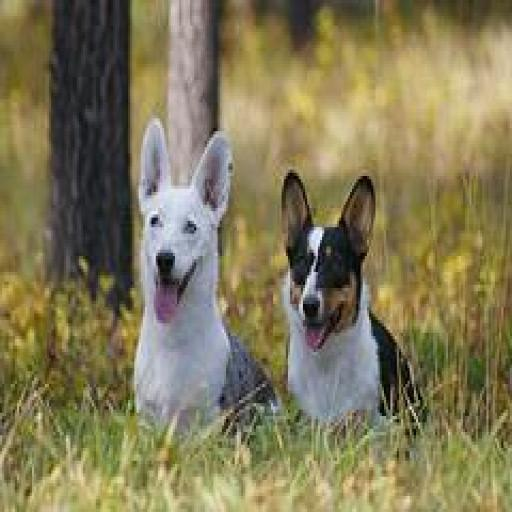dog_face: (138, 118, 236, 320), (281, 162, 382, 354)
